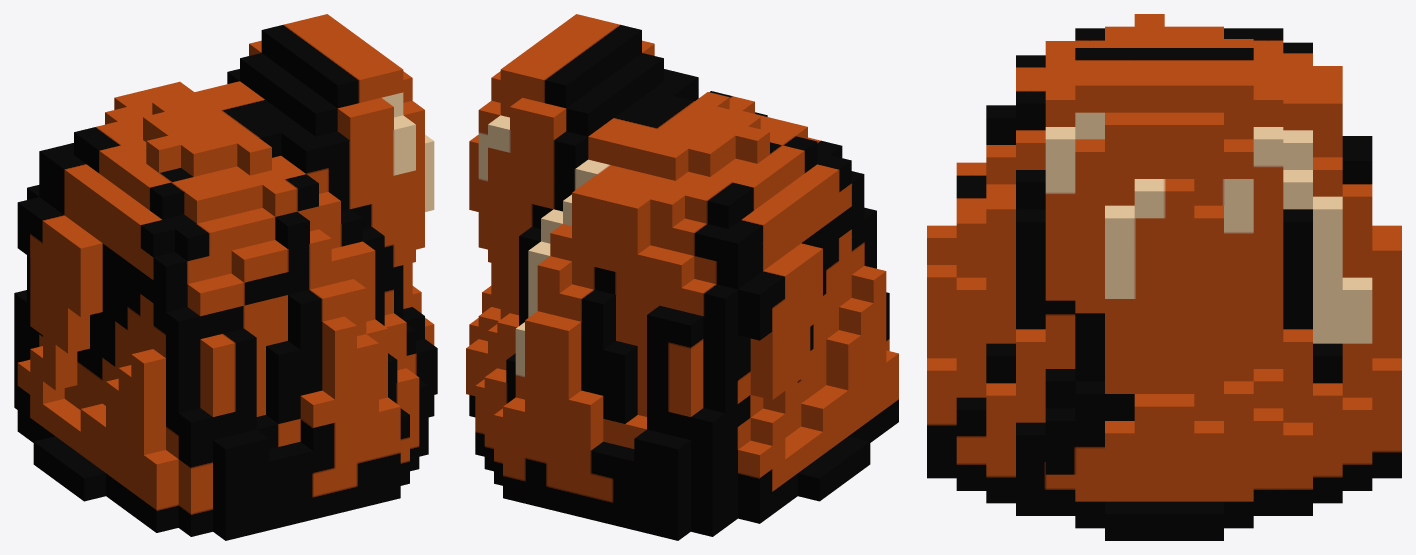
The model's file is RedRock.obj.
3 renders of one model, left to right at view 1: azimuth 30°, elevation 25°; view 2: azimuth 150°, elevation 25°; view 3: azimuth 270°, elevation 25°, orthographic. The views are drawn at different scales.
Visible parts, largest first — view 1: Matrix; view 2: Matrix; view 3: Matrix.
Boxes of the visible parts, box(x1,y1,x2,y2) form: Matrix: box(14, 14, 437, 540); Matrix: box(466, 14, 898, 540); Matrix: box(927, 14, 1401, 540).
Bounding box in the file's own units: 1.6 × 1.6 × 1.6.
1 material, 1 textured.
